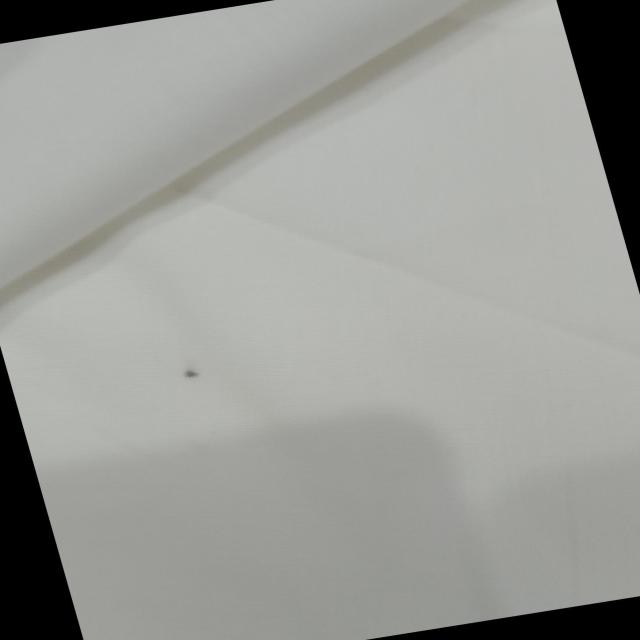stain: (171, 362, 211, 388)
